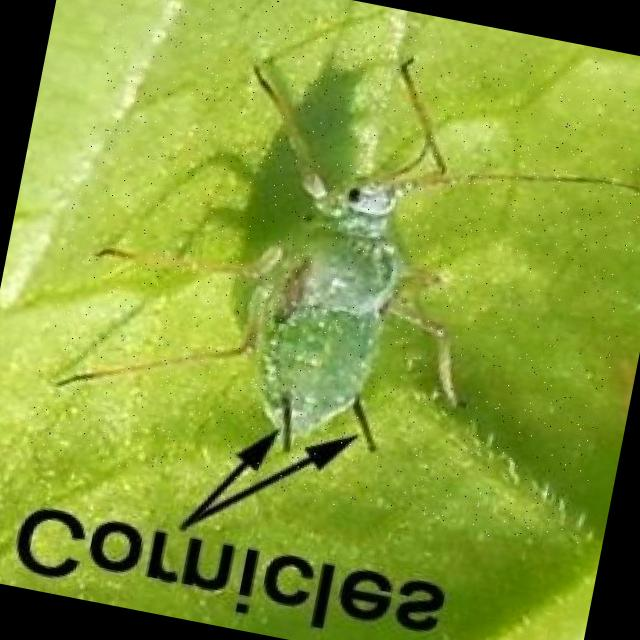aphid: (23, 0, 640, 556)
